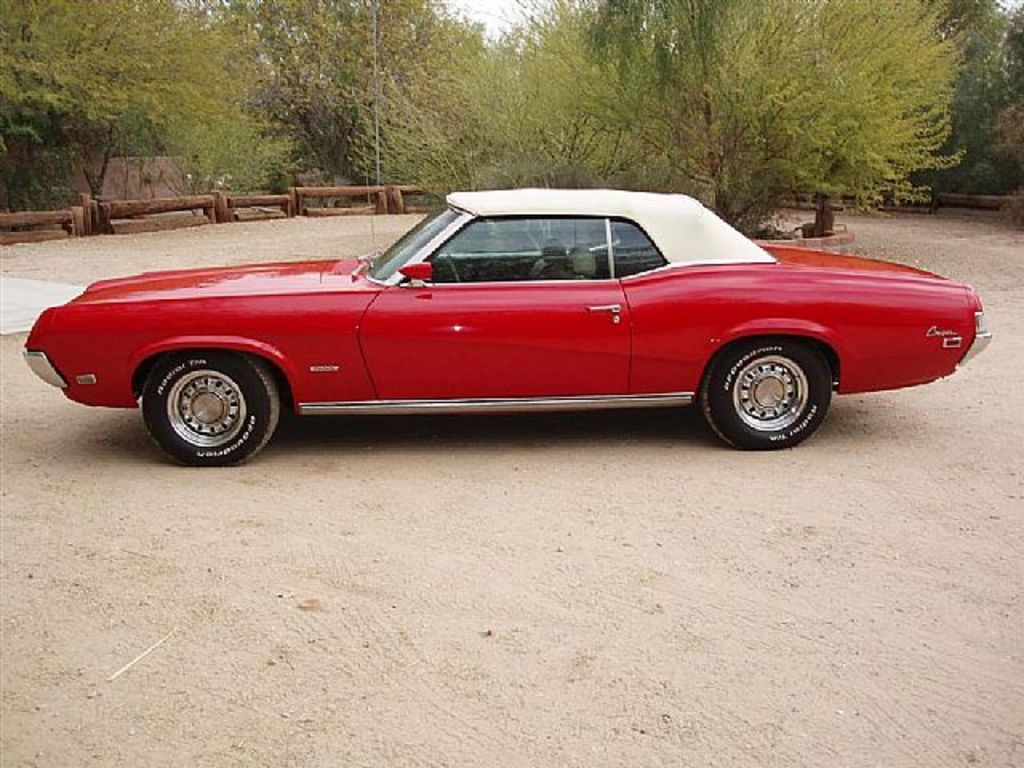Car: (20, 135, 988, 468)
